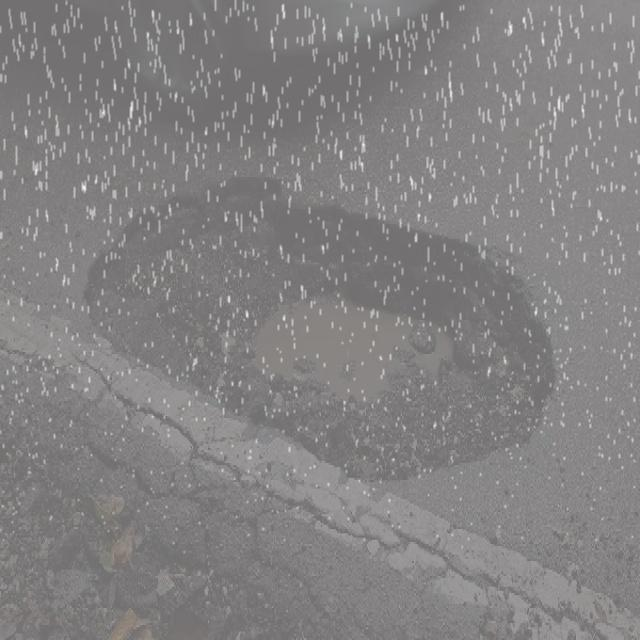Pothole: (68, 166, 562, 491)
